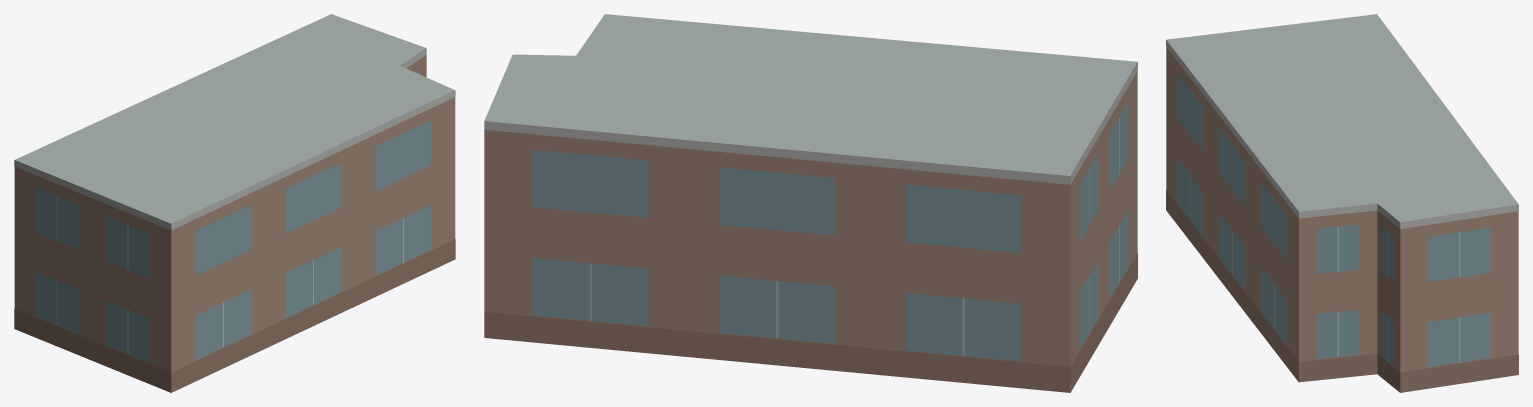
The model's file is survey-upis-32656284.glb.
3 renders of one model, left to right at view 1: azimuth 30°, elevation 25°; view 2: azimuth 150°, elevation 25°; view 3: azimuth 270°, elevation 25°, orthographic. The views are drawn at different scales.
Parts seen in each view (by area): view 1: survey-upis-32656284.tmp; view 2: survey-upis-32656284.tmp; view 3: survey-upis-32656284.tmp.
Part boxes in pixels (x1,y1,x2,y2): survey-upis-32656284.tmp: (14, 14, 455, 392); survey-upis-32656284.tmp: (484, 14, 1137, 392); survey-upis-32656284.tmp: (1166, 14, 1518, 392).
Size of the model in its own units: 16 by 6.1 by 11.45.
